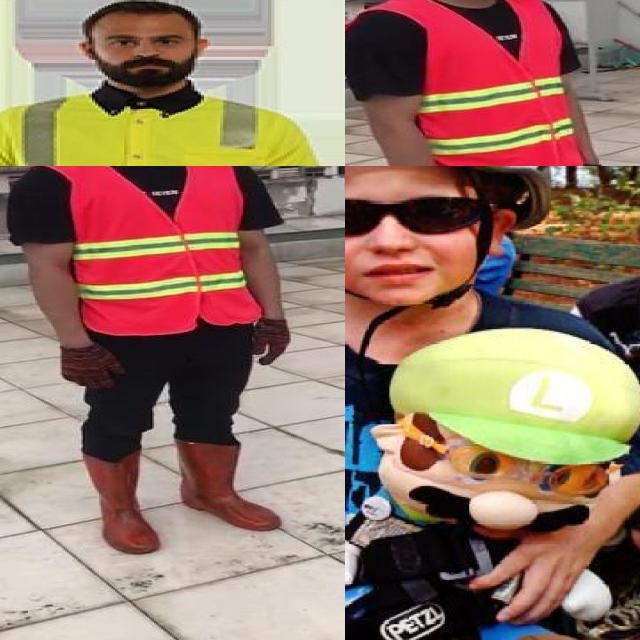No_Ear-Protection: (77, 38, 98, 63), (192, 33, 210, 62)
No_Glasses: (96, 26, 190, 55)
boots: (174, 437, 284, 533), (81, 455, 163, 556)
face_nomask: (345, 179, 478, 292)
glasses: (432, 426, 610, 503), (345, 179, 520, 236)
hand_glove: (56, 342, 122, 387), (254, 320, 292, 369)
hand_noglove: (470, 518, 592, 622)
person: (345, 166, 625, 640), (3, 166, 310, 552), (0, 0, 345, 166), (345, 0, 634, 166), (609, 186, 640, 630)
vest: (345, 0, 581, 166), (68, 166, 257, 335), (0, 83, 345, 166)
